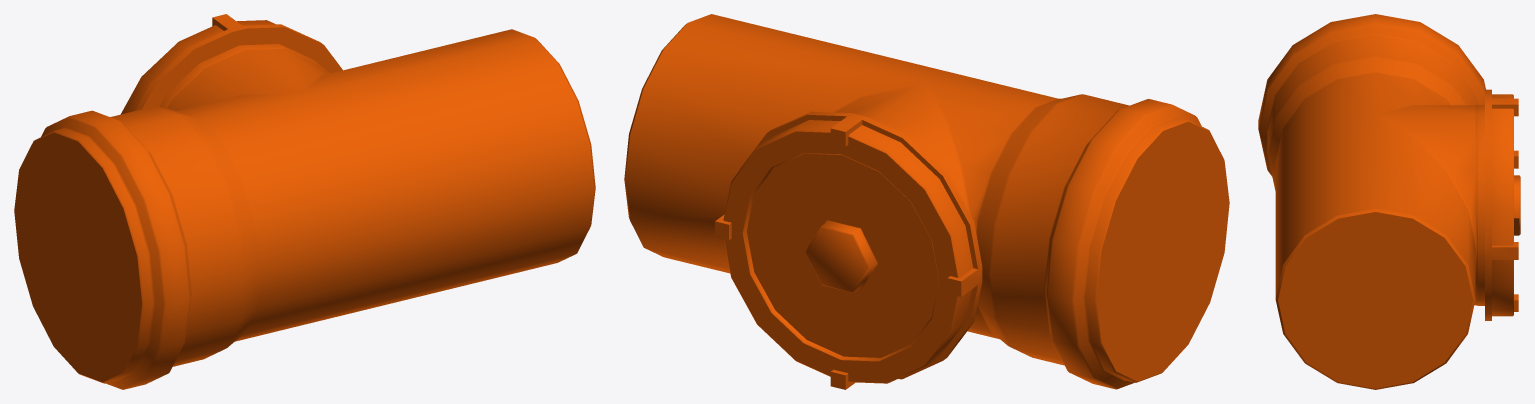
The model's file is PVC_D160_TR.FBX.
The picture shows the model from 3 angles, left to right: view 1: azimuth 30°, elevation 25°; view 2: azimuth 150°, elevation 25°; view 3: azimuth 270°, elevation 25°; orthographic projection. The views are drawn at different scales.
Parts seen in each view (by area): view 1: PVC_D160_TR; view 2: PVC_D160_TR; view 3: PVC_D160_TR.
Boxes of the visible parts, box(x1,y1,x2,y2) form: PVC_D160_TR: box(14, 14, 595, 389); PVC_D160_TR: box(624, 14, 1229, 389); PVC_D160_TR: box(1258, 14, 1520, 389).
Size of the model in its own units: 35.48 by 18.74 by 20.96.
